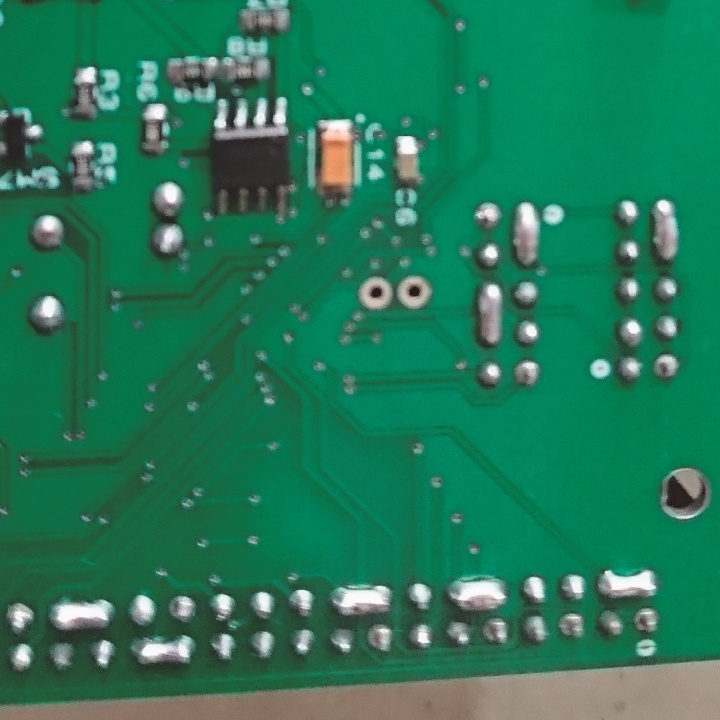F: (395, 272, 433, 315), (355, 275, 393, 314), (1, 599, 40, 636), (473, 196, 504, 232), (512, 357, 543, 389), (480, 616, 513, 646), (166, 594, 199, 624), (366, 623, 400, 652), (555, 611, 587, 640), (652, 352, 679, 382), (634, 606, 661, 635)
P: (127, 633, 199, 669), (48, 598, 116, 633), (594, 568, 660, 603), (447, 577, 510, 613), (331, 583, 390, 618), (511, 201, 539, 271), (652, 196, 679, 266), (479, 280, 506, 346)
